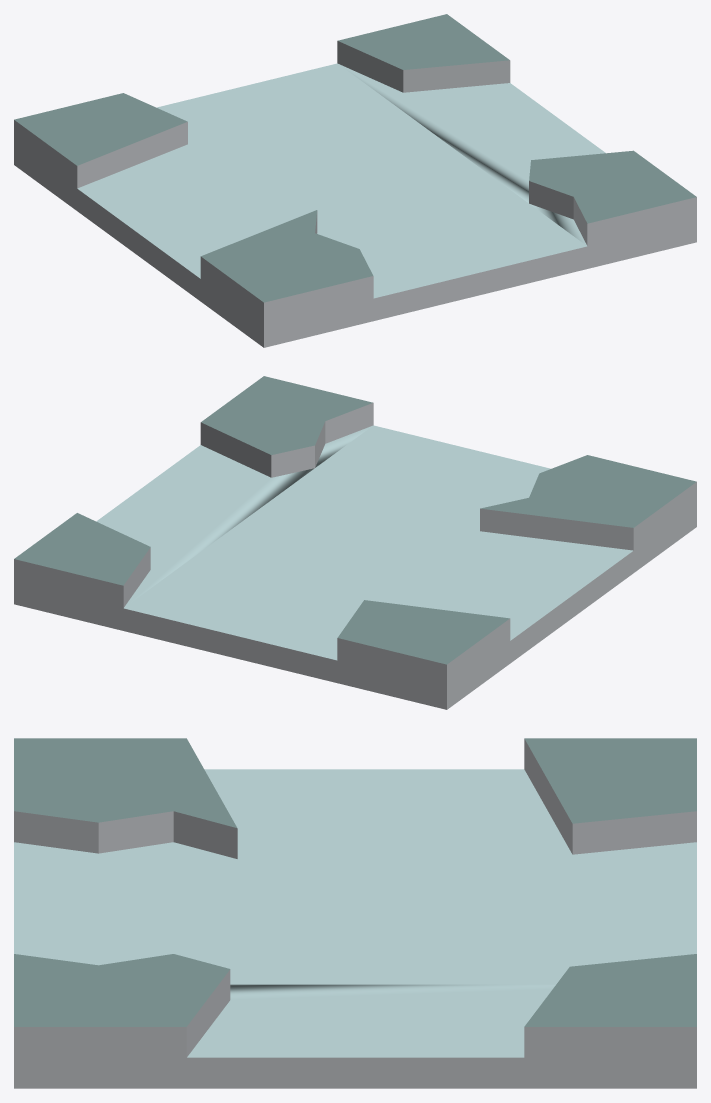
The model's file is Nature River 3.fbx.
The picture shows the model from 3 angles, top to bottom: view 1: azimuth 30°, elevation 25°; view 2: azimuth 150°, elevation 25°; view 3: azimuth 270°, elevation 25°; orthographic projection. The views are drawn at different scales.
Parts seen in each view (by area): view 1: Nature River 3; view 2: Nature River 3; view 3: Nature River 3.
Boxes of the visible parts, left/top/right/bottom form: Nature River 3: left=14, top=14, right=696, bottom=347; Nature River 3: left=14, top=376, right=696, bottom=709; Nature River 3: left=14, top=738, right=696, bottom=1088.
Bounding box in the file's own units: 3 × 0.3 × 3.
